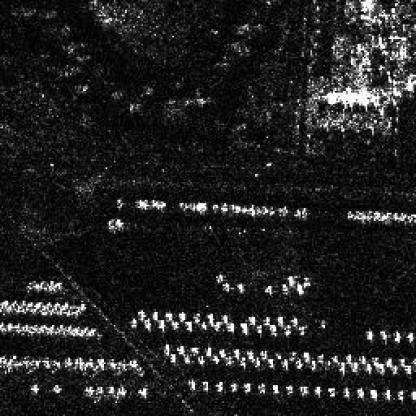airplane: (239, 354, 249, 368), (203, 343, 215, 354), (392, 330, 402, 343), (395, 388, 403, 402), (281, 356, 291, 367), (184, 353, 194, 364), (292, 283, 302, 294), (162, 342, 171, 354), (270, 382, 280, 392), (401, 364, 411, 374), (196, 354, 206, 364), (176, 344, 186, 354), (262, 315, 272, 325), (143, 318, 153, 328), (213, 271, 223, 281), (257, 380, 265, 392), (242, 380, 250, 392), (310, 357, 318, 369), (302, 349, 310, 361), (29, 384, 41, 392), (404, 332, 414, 341), (382, 387, 390, 398), (214, 379, 222, 390), (200, 379, 208, 390), (187, 377, 195, 388), (247, 348, 255, 359), (169, 351, 177, 362), (366, 330, 374, 341), (206, 312, 214, 323), (300, 275, 308, 286), (284, 273, 292, 284), (264, 283, 272, 294), (255, 354, 262, 366), (233, 346, 240, 358), (356, 385, 364, 395), (343, 385, 351, 395), (326, 385, 334, 395), (297, 384, 307, 392), (229, 380, 237, 390), (370, 356, 378, 366), (290, 349, 298, 359), (266, 356, 274, 366), (224, 354, 232, 364), (218, 346, 226, 356), (247, 316, 257, 324), (239, 322, 247, 332), (226, 322, 236, 330), (211, 322, 221, 330), (184, 320, 192, 330), (177, 310, 185, 320), (156, 320, 166, 328), (115, 385, 125, 393), (136, 385, 146, 393), (368, 387, 376, 396), (296, 358, 304, 367), (221, 280, 229, 289), (52, 384, 60, 393), (297, 325, 304, 335), (169, 320, 179, 327), (151, 310, 158, 320), (236, 283, 242, 294), (314, 384, 322, 392), (284, 384, 292, 392), (396, 358, 404, 366), (358, 356, 366, 364), (274, 351, 282, 359), (260, 350, 268, 358), (276, 316, 284, 324), (268, 324, 276, 332), (255, 324, 263, 332), (164, 312, 172, 320), (280, 283, 288, 291), (84, 385, 92, 393), (94, 387, 102, 395), (106, 385, 114, 393), (385, 358, 392, 367), (390, 364, 396, 374), (377, 362, 383, 372), (364, 362, 370, 372), (345, 354, 351, 364), (379, 330, 385, 340), (130, 317, 136, 327), (212, 354, 219, 362), (190, 346, 198, 353), (290, 315, 298, 322), (193, 312, 200, 320), (138, 310, 145, 318), (351, 361, 357, 369), (338, 364, 344, 372), (330, 356, 338, 362), (283, 327, 291, 333), (221, 314, 227, 322), (202, 320, 206, 328)
